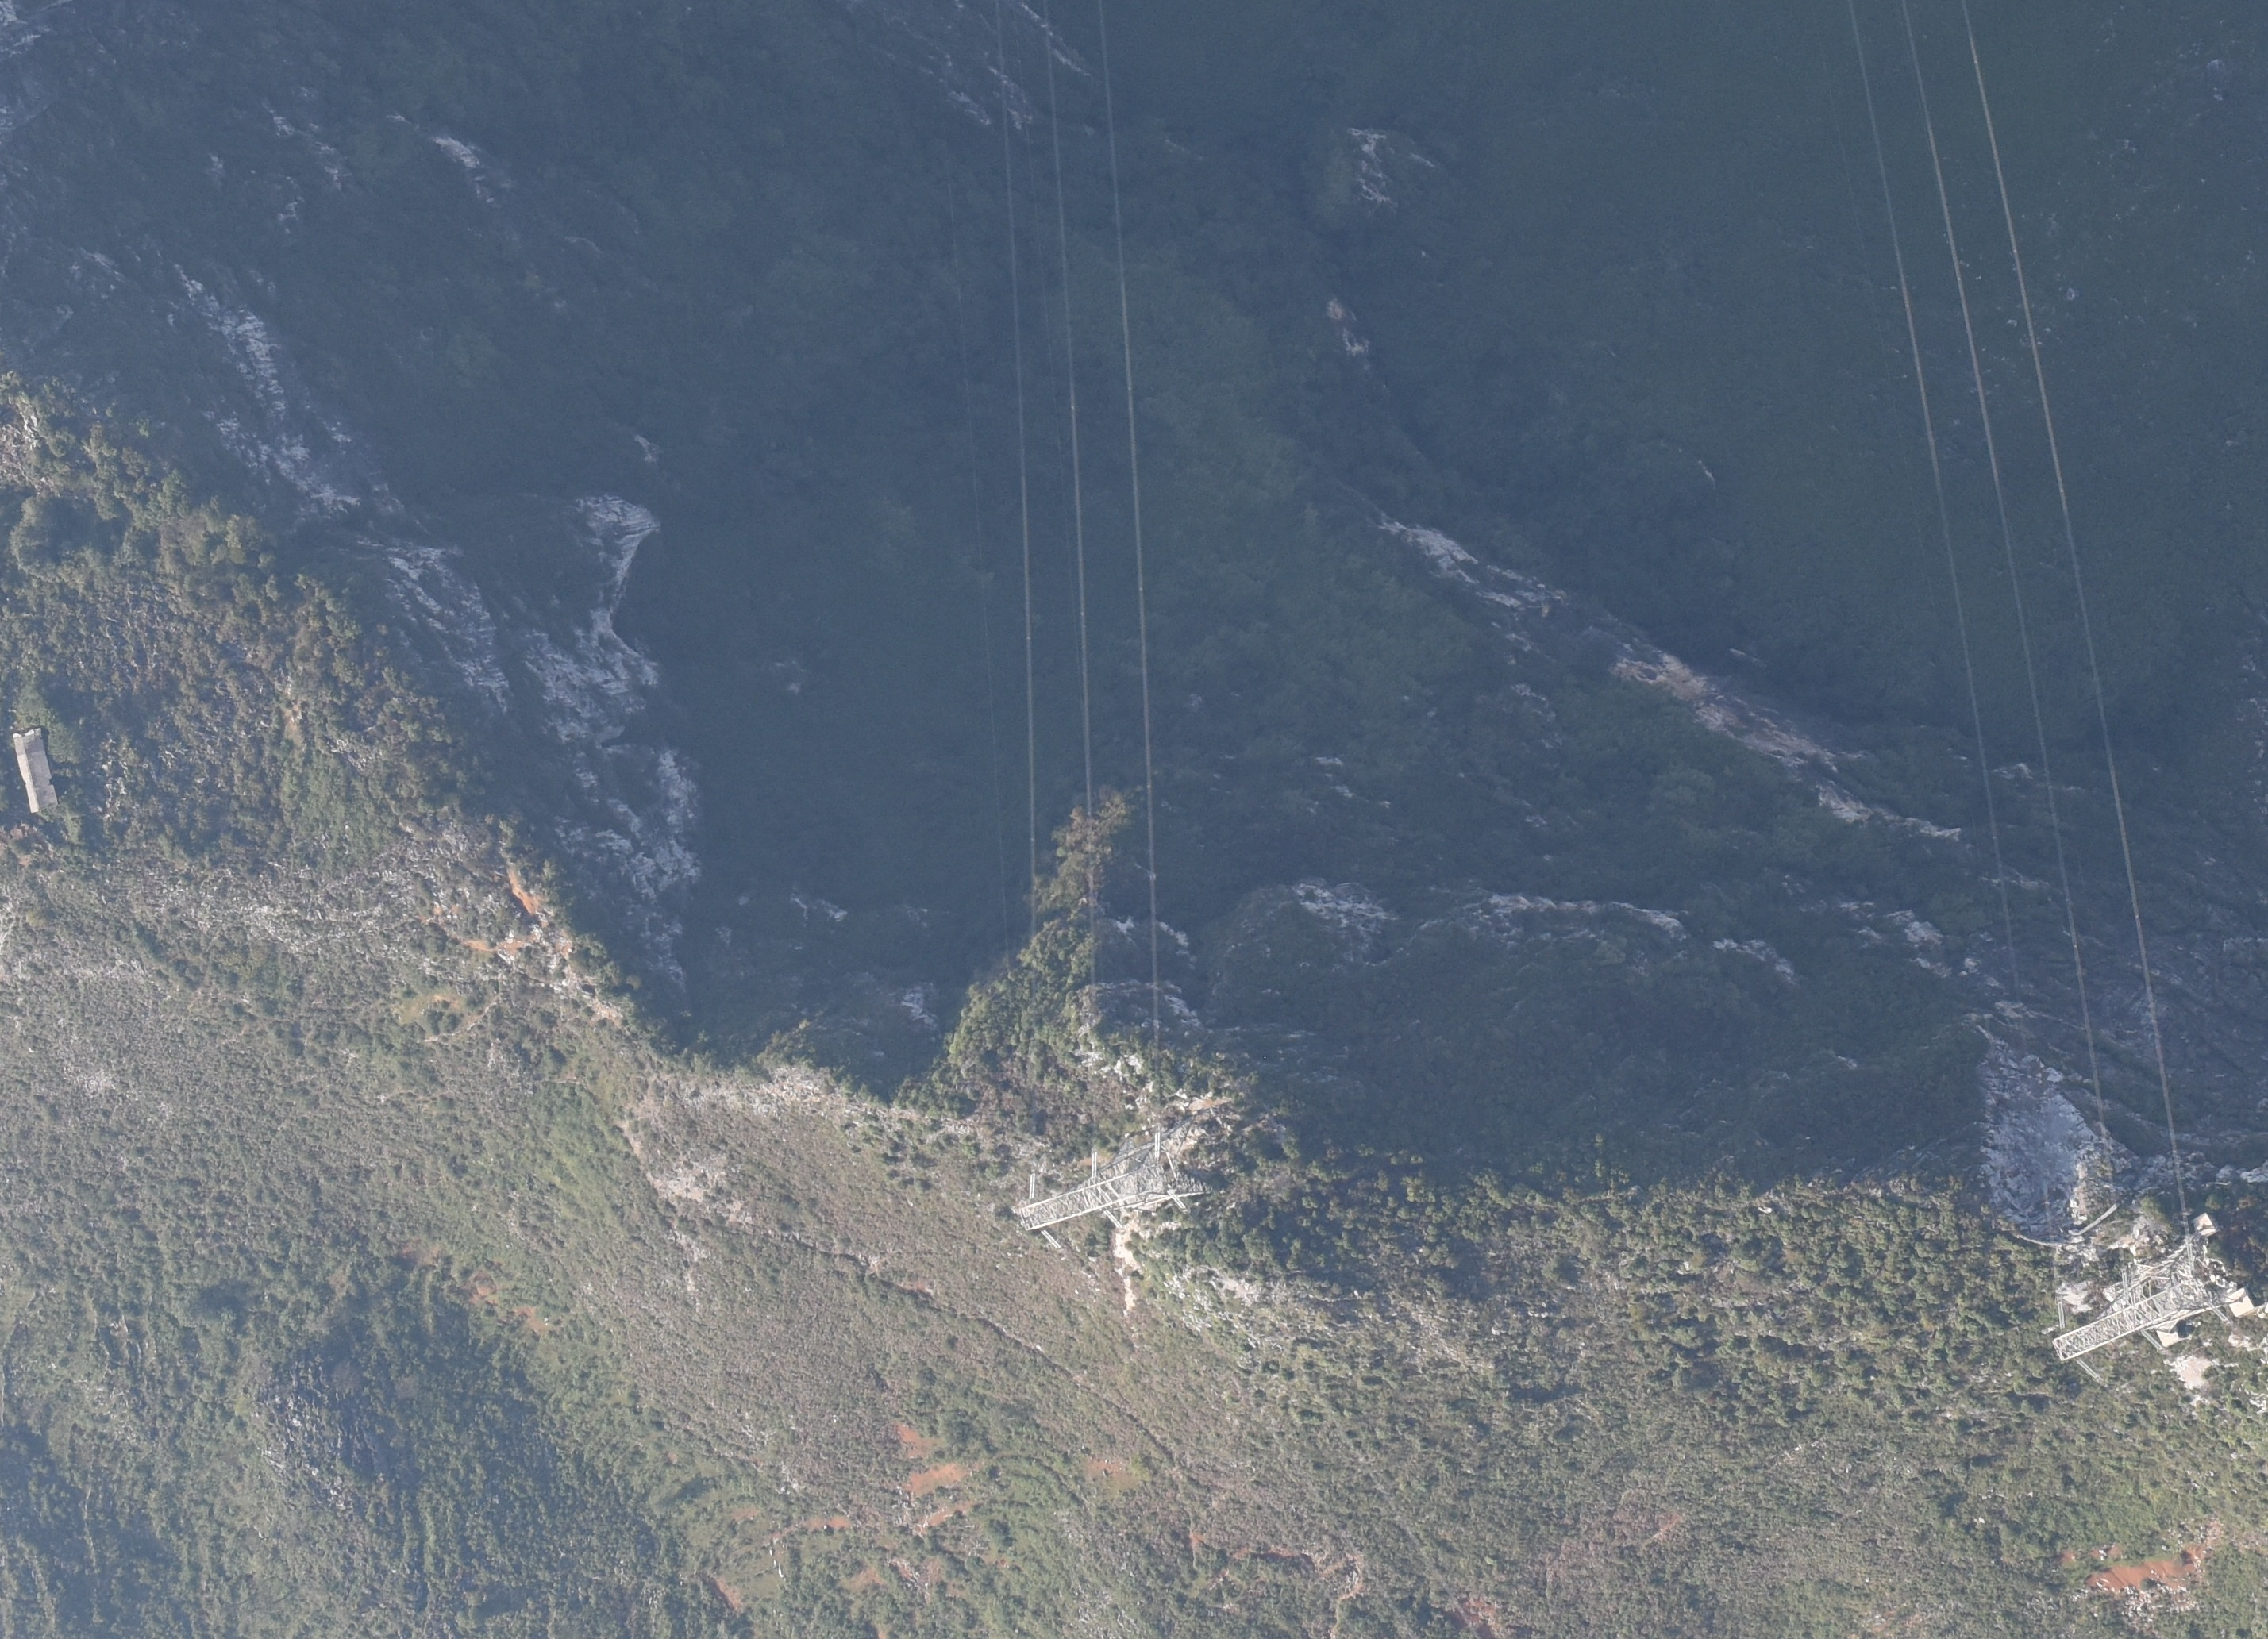building: (12, 727, 61, 817)
cable-tower: (2049, 1225, 2241, 1364), (1019, 1141, 1199, 1254)
